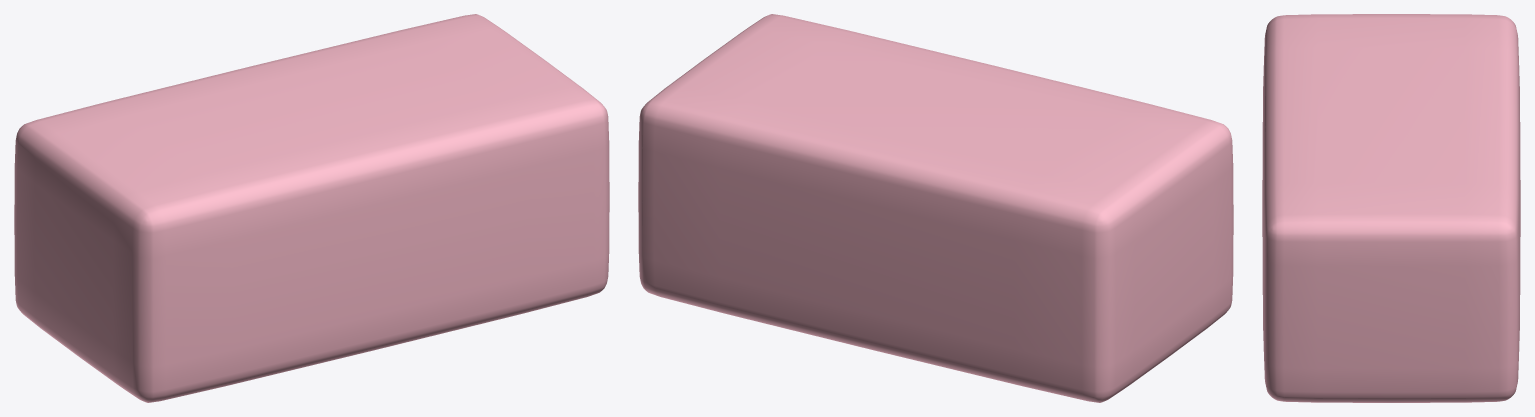
Rendered from eraser.glb.
The picture shows the model from 3 angles, left to right: view 1: azimuth 30°, elevation 25°; view 2: azimuth 150°, elevation 25°; view 3: azimuth 270°, elevation 25°; orthographic projection. The views are drawn at different scales.
Visible parts, largest first — view 1: eraser; view 2: eraser; view 3: eraser.
Part boxes in pixels (<box>): eraser: <box>14,14,609,402</box>; eraser: <box>638,14,1233,402</box>; eraser: <box>1262,14,1520,402</box>.
Size of the model in its own units: 0.4995 by 0.1995 by 0.2495.
